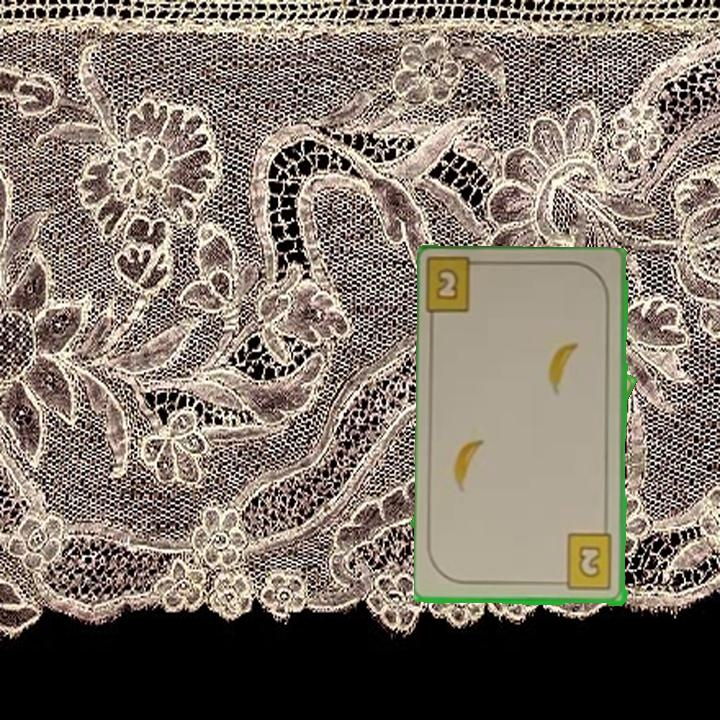2b: (425, 258, 491, 319), (554, 531, 616, 593)
